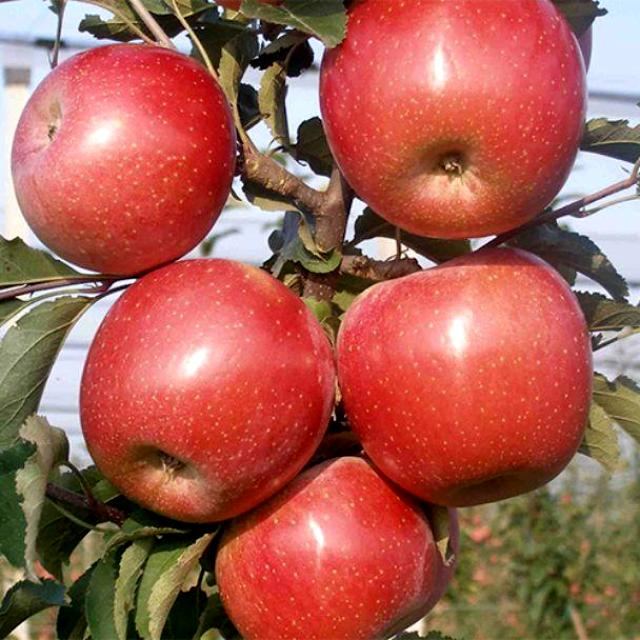HEALTHY: (318, 0, 609, 244), (347, 241, 616, 499), (54, 263, 330, 510), (14, 39, 263, 264), (168, 456, 454, 635)
